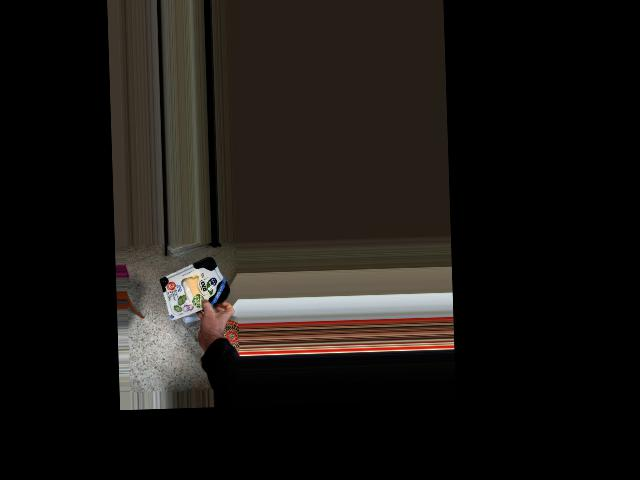cheese: (159, 260, 232, 310)
